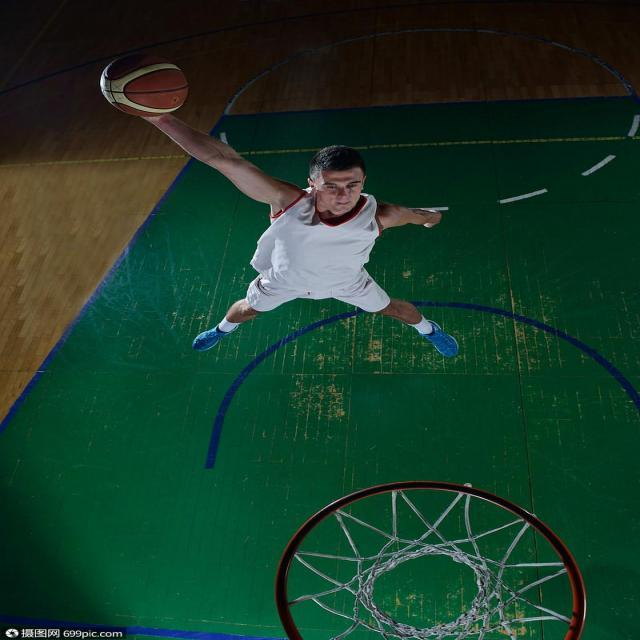rim: (99, 59, 188, 114)
